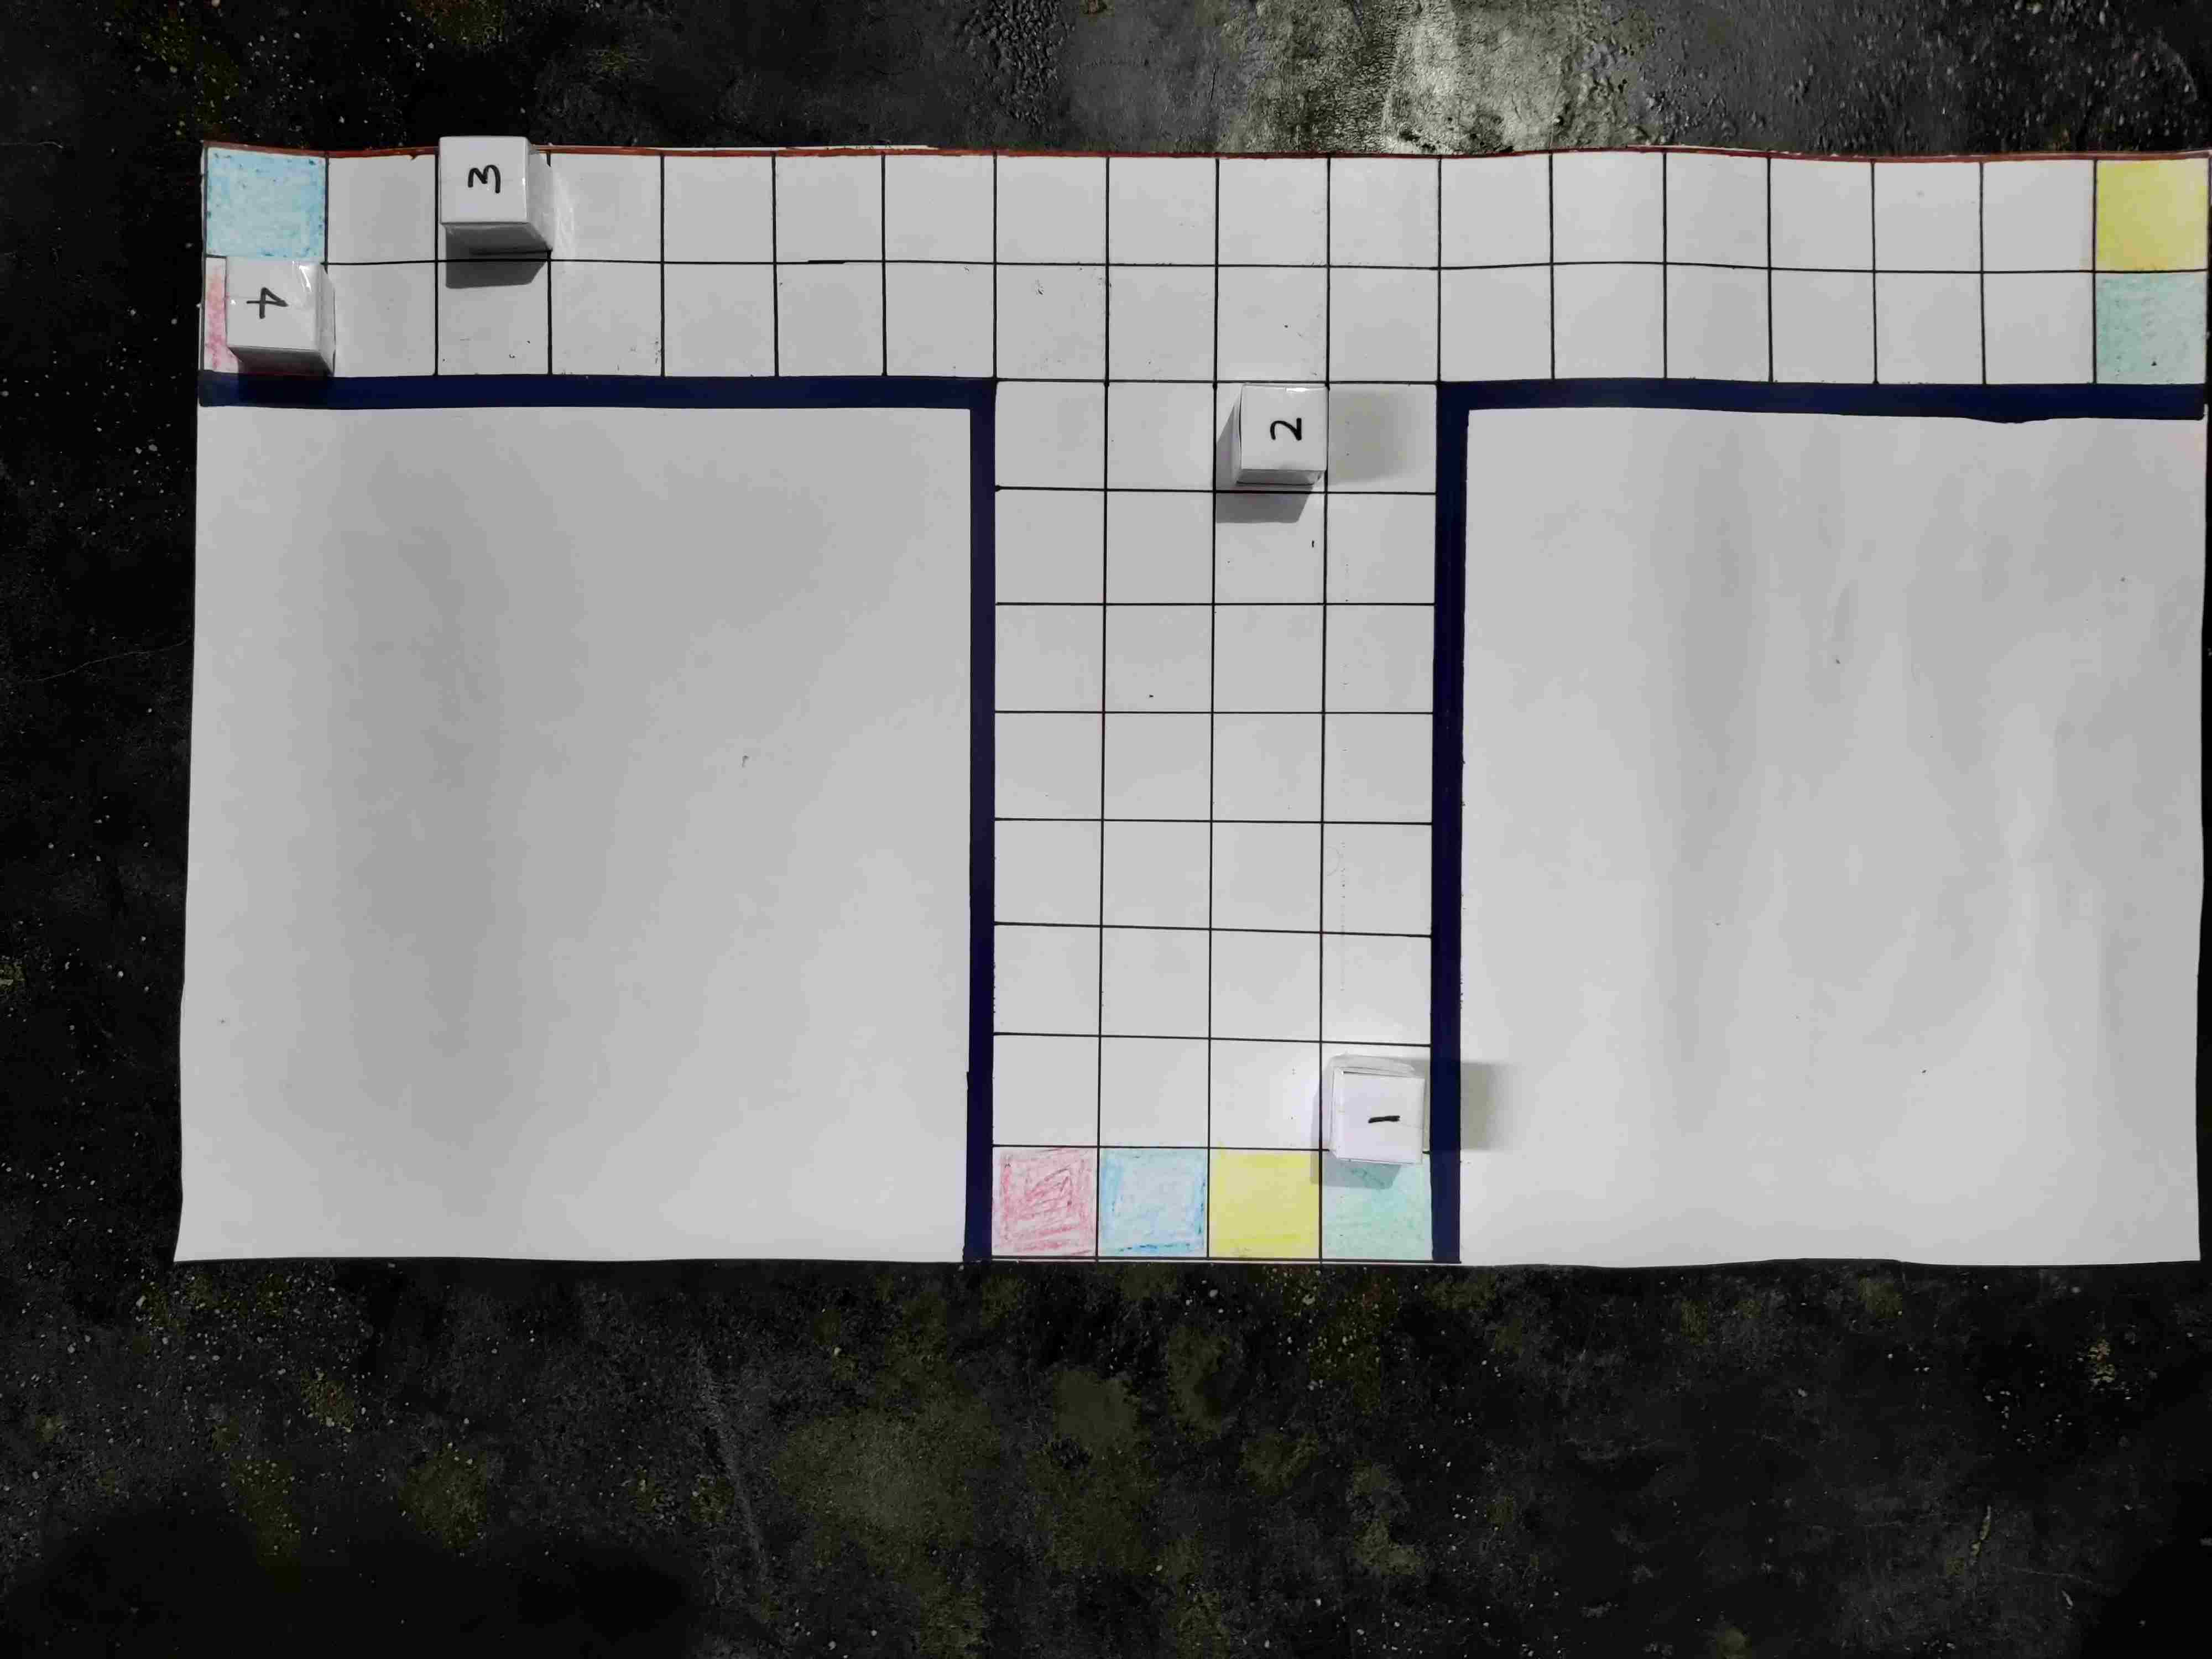arena: (117, 314, 2123, 1406)
bot: (199, 1192, 289, 1281), (1118, 964, 1209, 1044), (1925, 1187, 2010, 1269), (991, 411, 1076, 488)
